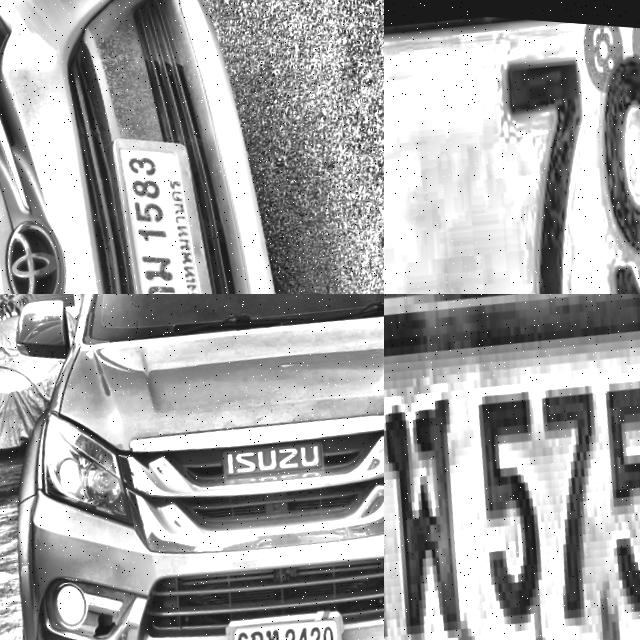license-plate: (384, 294, 640, 640), (384, 0, 640, 294), (64, 191, 273, 294), (226, 591, 368, 640)
